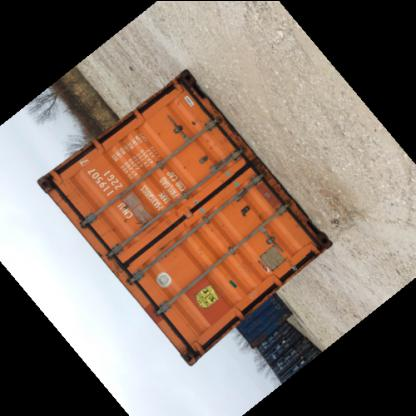Damage: (120, 207, 166, 231), (172, 69, 200, 104), (34, 170, 60, 194), (224, 276, 246, 298), (178, 340, 198, 362), (233, 203, 254, 221), (181, 118, 202, 128)
